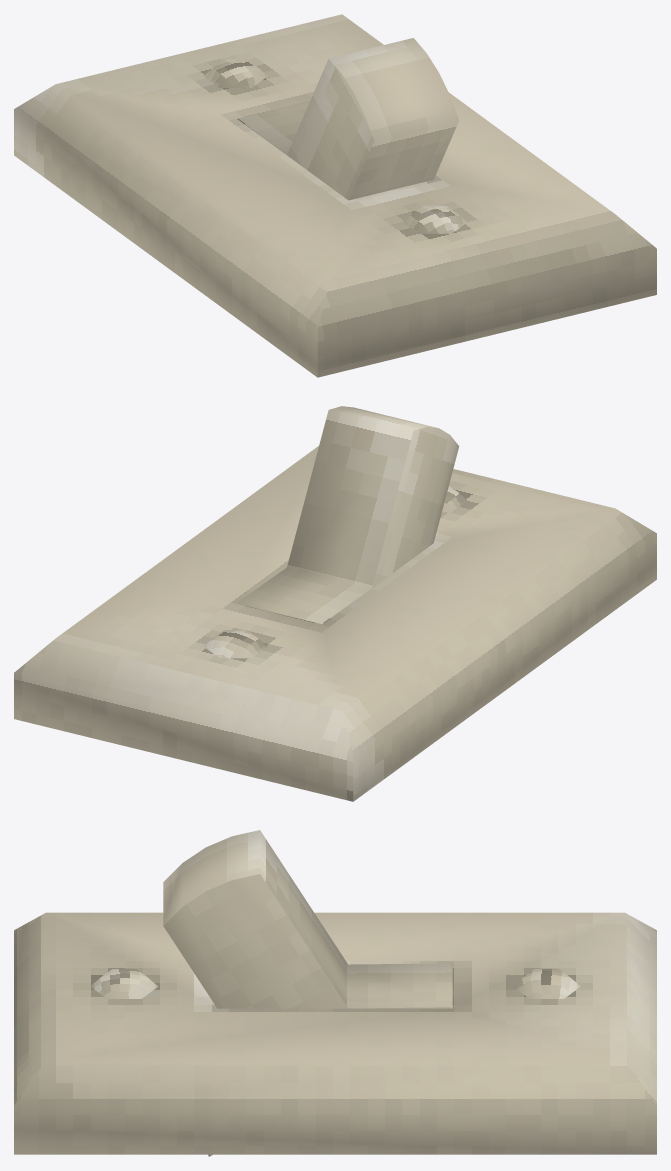
The model's file is xury_light_switch.glb.
3 renders of one model, top to bottom at view 1: azimuth 30°, elevation 25°; view 2: azimuth 150°, elevation 25°; view 3: azimuth 270°, elevation 25°, orthographic. The views are drawn at different scales.
Visible parts, largest first — view 1: LightSwitch_Housing, LightSwitch_Switch; view 2: LightSwitch_Housing, LightSwitch_Switch; view 3: LightSwitch_Housing, LightSwitch_Switch.
Part boxes in pixels (box(x1,y1,x2,y2)): LightSwitch_Housing: box(14, 14, 656, 377); LightSwitch_Switch: box(238, 38, 459, 200); LightSwitch_Housing: box(14, 446, 656, 801); LightSwitch_Switch: box(238, 406, 459, 624); LightSwitch_Housing: box(14, 912, 656, 1154); LightSwitch_Switch: box(163, 830, 452, 1156).
Size of the model in its own units: 0.6452 by 0.4857 by 1.
1 material, 1 textured.
